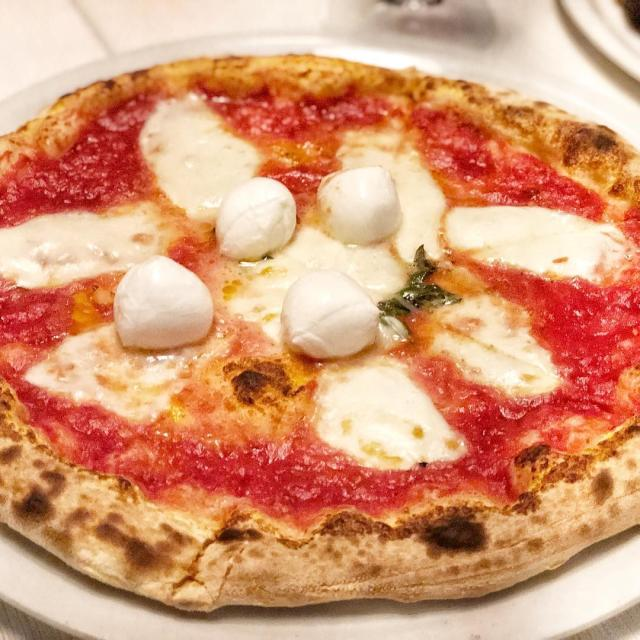basil: (376, 238, 462, 316)
pizza: (0, 54, 640, 616)
